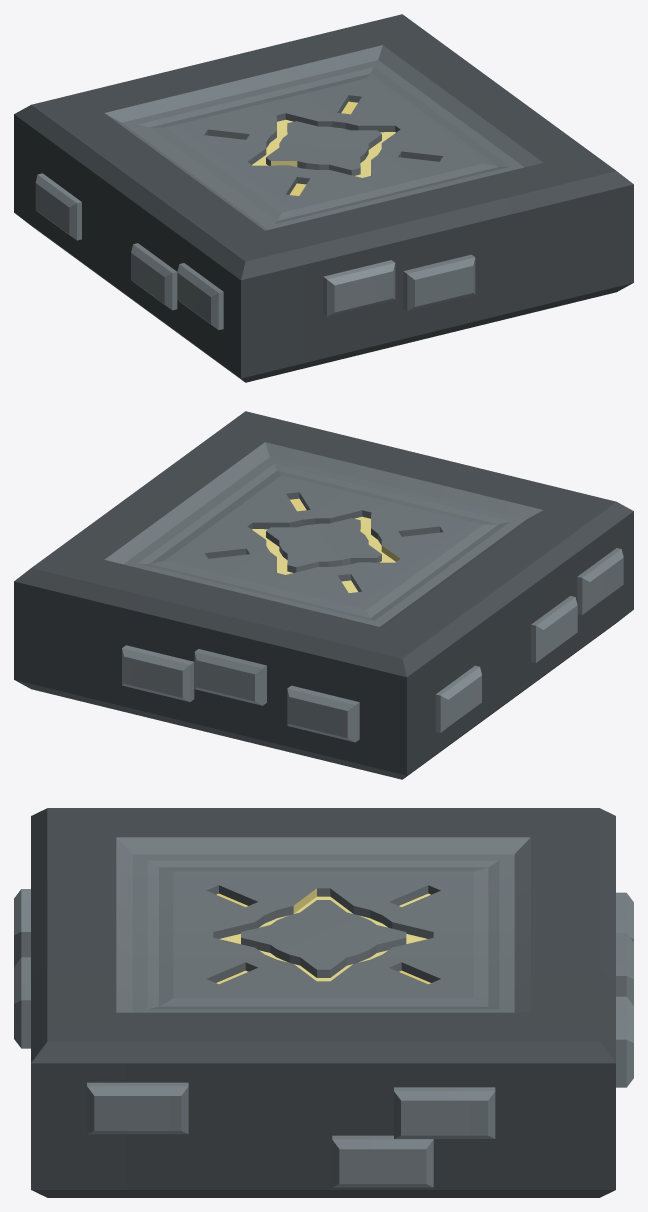
Rendered from Platform.obj.
The picture shows the model from 3 angles, top to bottom: view 1: azimuth 30°, elevation 25°; view 2: azimuth 150°, elevation 25°; view 3: azimuth 270°, elevation 25°; orthographic projection. The views are drawn at different scales.
Parts seen in each view (by area): view 1: Cube; view 2: Cube; view 3: Cube.
Part boxes in pixels (x1,y1,x2,y2): Cube: [14, 14, 633, 382]; Cube: [14, 411, 633, 779]; Cube: [14, 808, 633, 1197].
Size of the model in its own units: 2.11 by 0.5891 by 2.12.
Materials: 1 (1 with a texture image).
